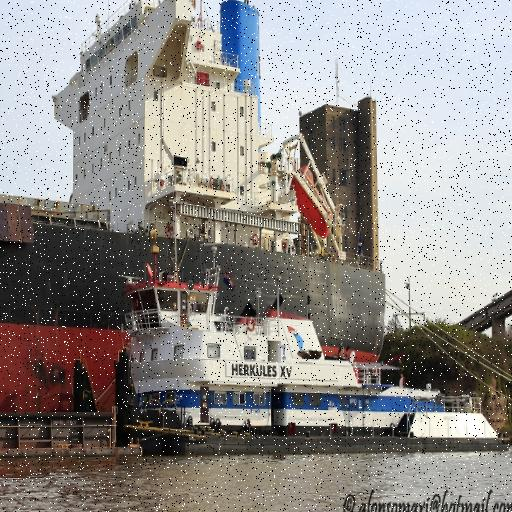tugboat: (70, 189, 512, 465)
